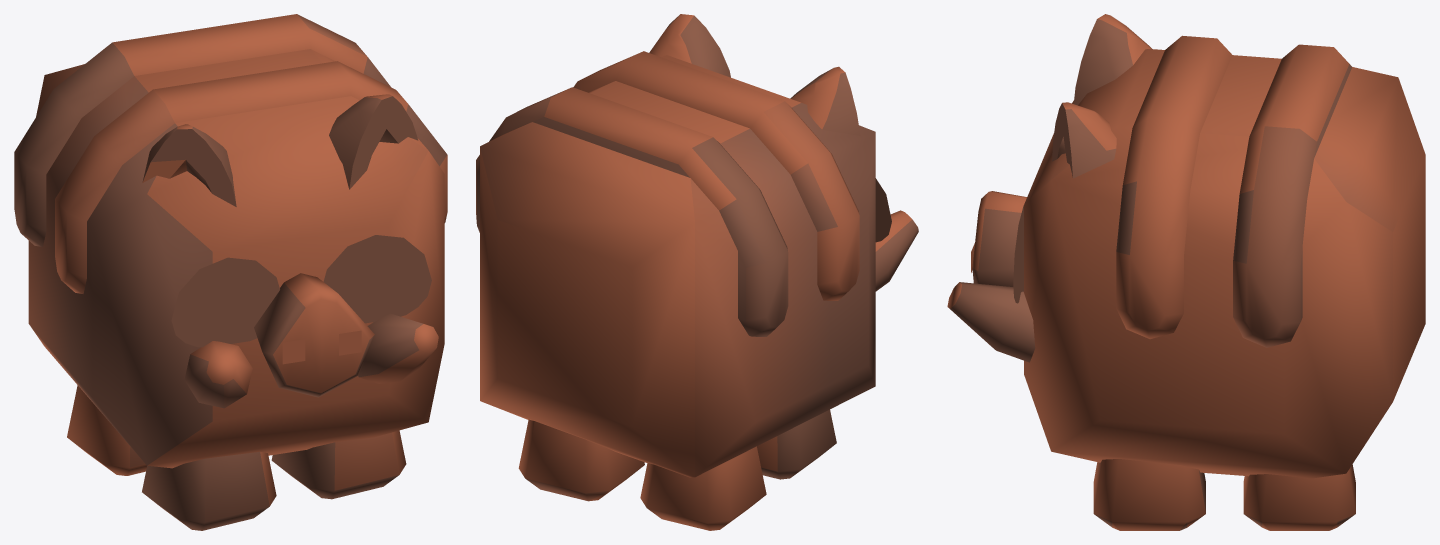
File: inosuke.fbx
3 renders of one model, left to right at view 1: azimuth 30°, elevation 25°; view 2: azimuth 150°, elevation 25°; view 3: azimuth 270°, elevation 25°, orthographic. The views are drawn at different scales.
Visible parts, largest first — view 1: body; view 2: body; view 3: body.
Part boxes in pixels (x1,y1,x2,y2): body: [14, 14, 447, 530]; body: [476, 14, 918, 530]; body: [947, 14, 1425, 530].
Size of the model in its own units: 1.42 by 1.52 by 1.6.
1 material, 1 textured.
